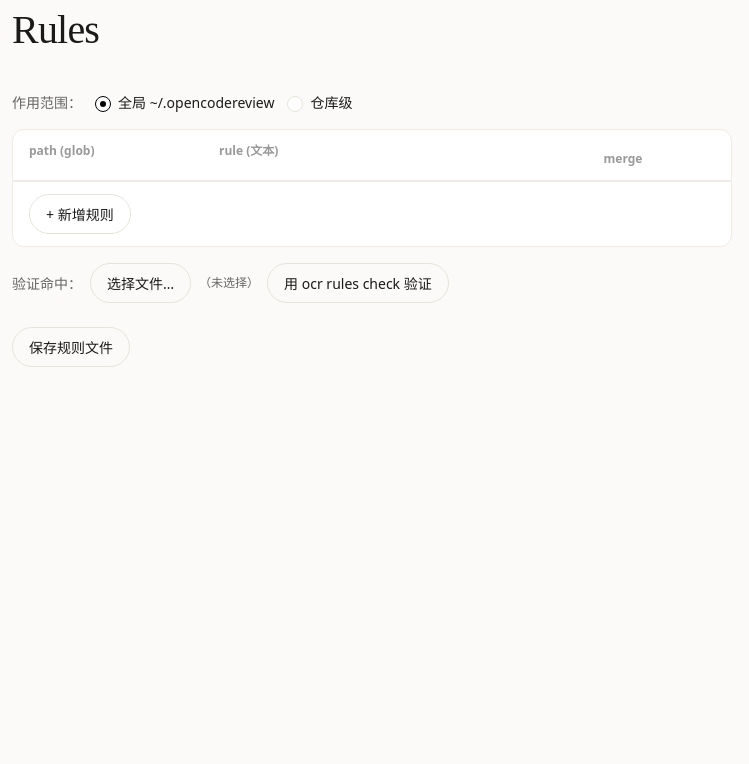
RulesTab 保存 › path 为空时客户端拦截，不下发 set_rules
Click the button "+ 新增规则" at (80, 214), box x1=29 y1=194 x2=131 y2=234
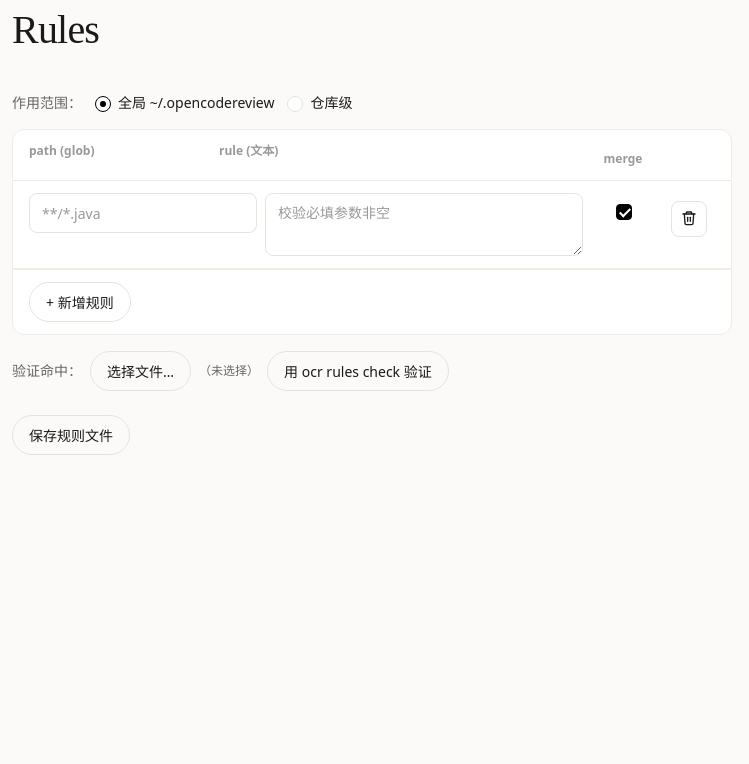
Expected: the field named "path-0" is shown, x1=29 y1=193 x2=257 y2=233
Click the button "保存规则文件" at (71, 435), box x1=12 y1=415 x2=130 y2=455
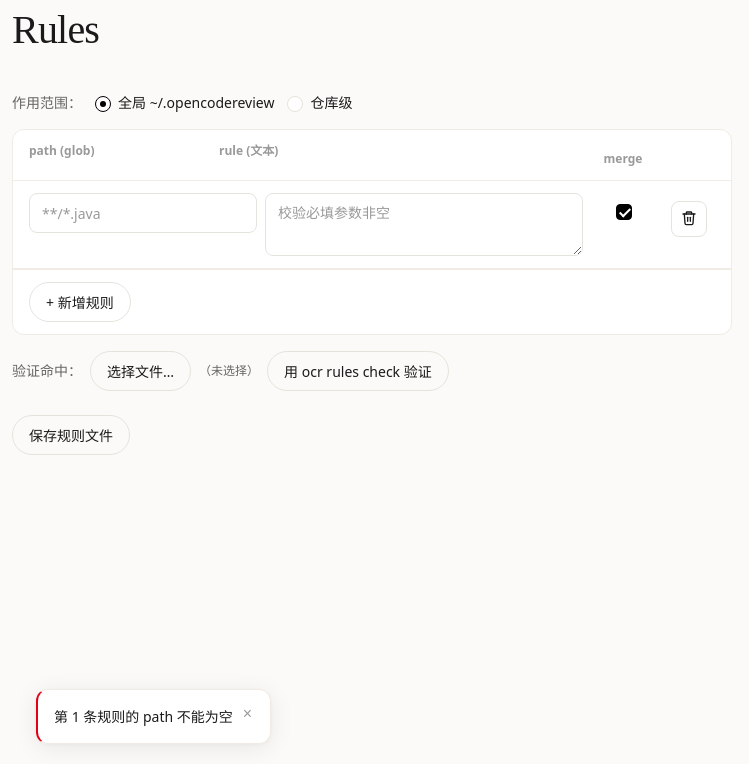
Expected: the text "第 1 条规则的 path 不能为空" is shown, x1=54 y1=706 x2=233 y2=727
